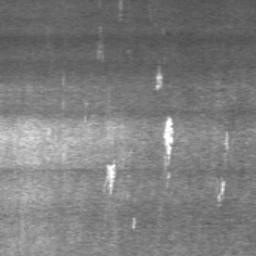White rust: (162, 115, 174, 168), (102, 162, 116, 195), (96, 24, 105, 61), (216, 179, 228, 203), (155, 64, 164, 92), (119, 0, 123, 21), (225, 131, 229, 150), (132, 217, 137, 229)
